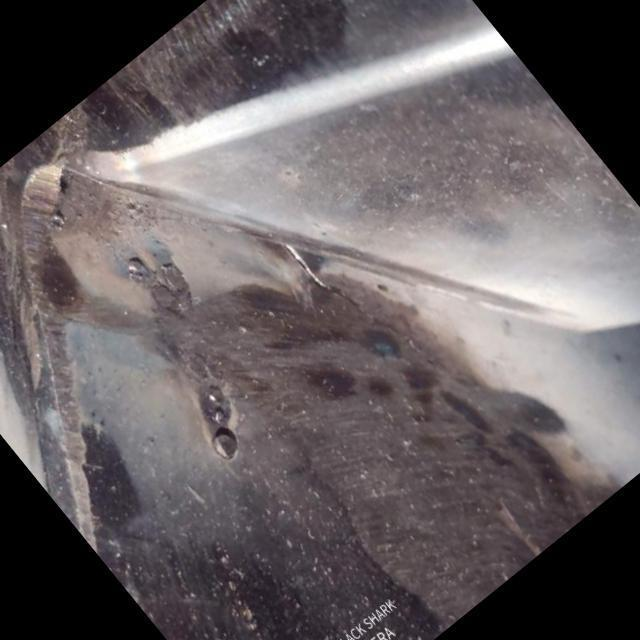defect: (275, 236, 438, 369)
